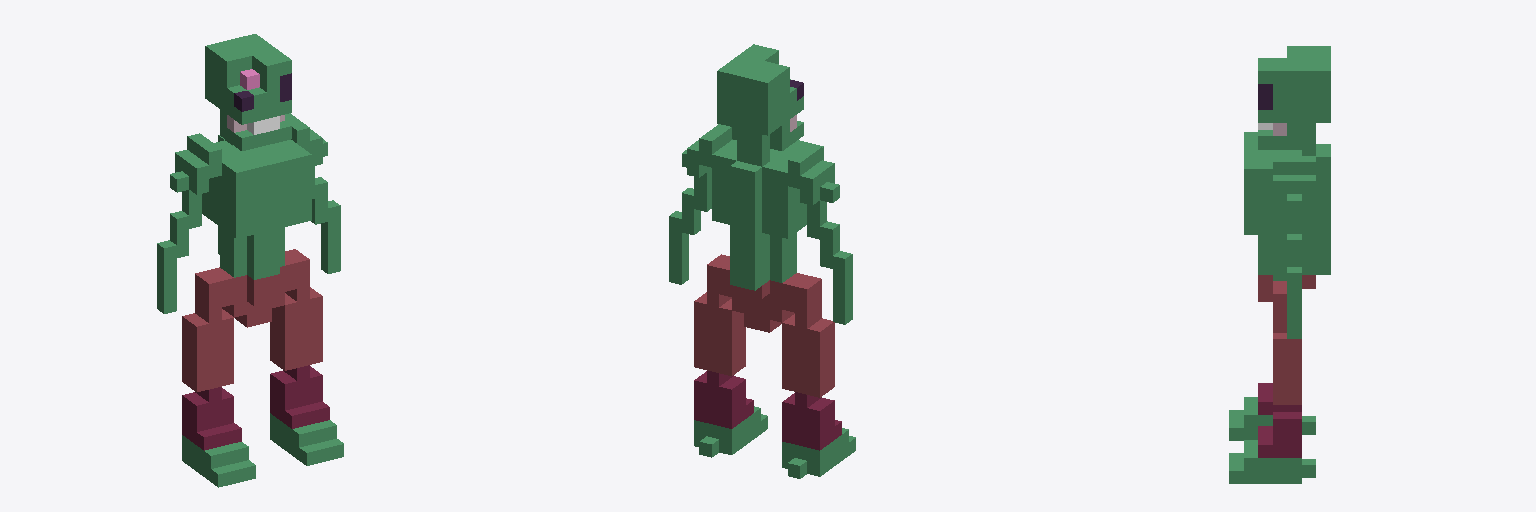
3 views of the same model, side by side, from view 1: azimuth 30°, elevation 25°; view 2: azimuth 150°, elevation 25°; view 3: azimuth 270°, elevation 25° (orthographic).
Visible parts, largest first — view 1: object 1; view 2: object 1; view 3: object 1.
Part boxes in pixels (bbox=[...]): object 1: bbox=[157, 34, 343, 487]; object 1: bbox=[669, 44, 855, 478]; object 1: bbox=[1229, 46, 1330, 483].
Bounding box in the file's own units: 1.4 × 3 × 0.7.
1 materials, 1 textured.